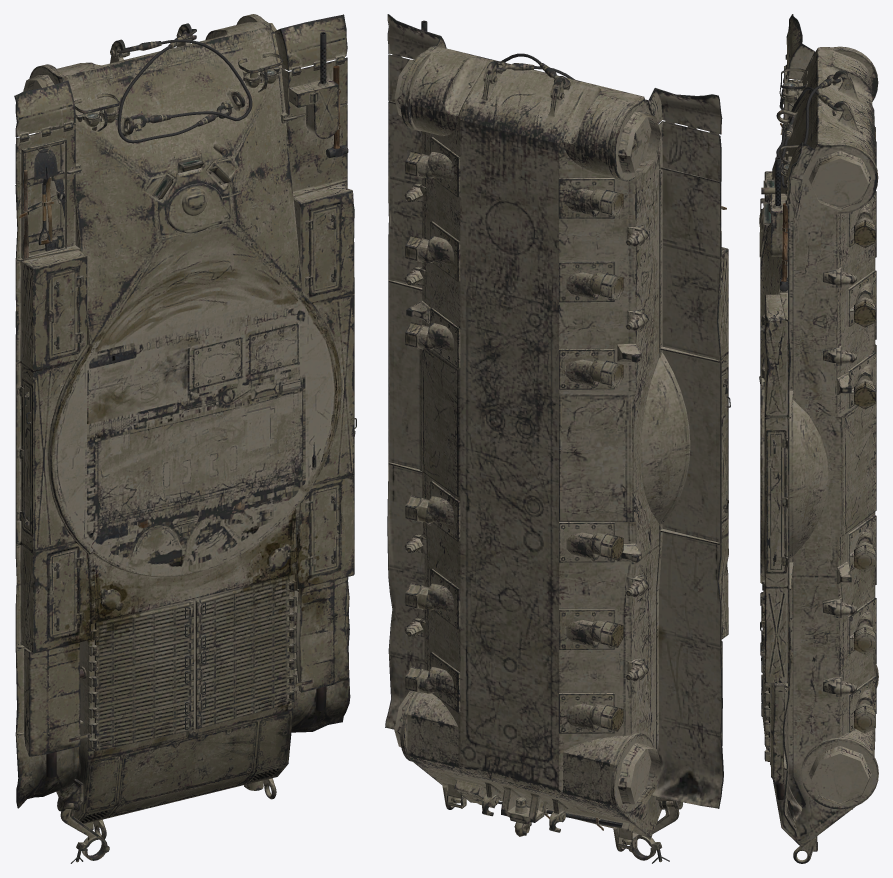
The model's file is Hull.glb.
3 renders of one model, left to right at view 1: azimuth 30°, elevation 25°; view 2: azimuth 150°, elevation 25°; view 3: azimuth 270°, elevation 25°, orthographic. The views are drawn at different scales.
Parts seen in each view (by area): view 1: set_0_group_0; view 2: set_0_group_0; view 3: set_0_group_0.
Boxes of the visible parts, x1,y1,x2,y2 form: set_0_group_0: (14, 14, 356, 863); set_0_group_0: (385, 14, 730, 863); set_0_group_0: (759, 14, 878, 863).
Size of the model in its own units: 3.56 by 8.04 by 1.17.
1 material, 1 textured.
